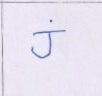anusvara: (50, 20, 52, 22)
